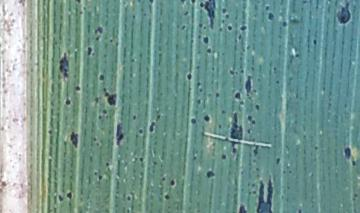tarspot: (225, 109, 247, 155), (255, 175, 278, 213), (57, 48, 74, 85), (332, 1, 354, 28), (201, 1, 220, 30), (112, 118, 127, 149), (101, 85, 120, 109), (242, 72, 254, 98), (249, 142, 264, 159), (67, 129, 80, 148), (231, 87, 245, 104), (341, 145, 355, 162), (203, 166, 218, 181), (272, 155, 286, 169), (236, 201, 251, 213), (83, 46, 96, 59), (200, 35, 213, 48), (149, 118, 158, 136), (203, 109, 212, 127), (93, 24, 105, 37), (183, 71, 195, 84), (237, 22, 249, 35), (279, 18, 291, 31), (264, 12, 277, 24), (188, 114, 199, 128), (311, 34, 320, 50), (167, 176, 178, 189), (227, 65, 237, 79), (64, 189, 74, 201), (224, 22, 234, 34), (196, 20, 208, 30), (293, 48, 303, 60), (71, 84, 84, 93), (55, 193, 65, 204), (252, 101, 262, 112), (162, 191, 173, 201), (217, 122, 227, 133), (195, 79, 204, 91), (91, 96, 101, 106), (263, 3, 272, 14), (183, 8, 192, 19), (64, 96, 72, 108), (220, 151, 228, 163), (125, 193, 133, 205), (97, 72, 107, 81), (195, 98, 204, 108), (191, 153, 199, 164), (311, 143, 320, 152), (246, 114, 256, 122), (253, 164, 261, 174), (73, 1, 86, 7), (47, 127, 54, 138), (92, 169, 101, 177), (213, 91, 222, 99), (150, 159, 159, 167), (92, 133, 99, 143), (238, 66, 245, 76), (273, 78, 283, 85), (220, 5, 227, 15), (104, 160, 112, 168), (271, 64, 279, 72), (95, 113, 102, 122), (137, 126, 143, 136), (130, 112, 137, 120), (251, 119, 258, 127), (207, 49, 214, 56), (296, 208, 305, 213), (139, 155, 143, 165)
